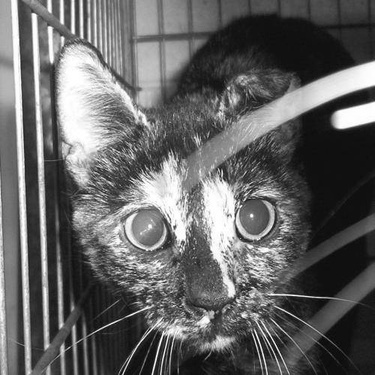cat: (55, 12, 360, 352)
